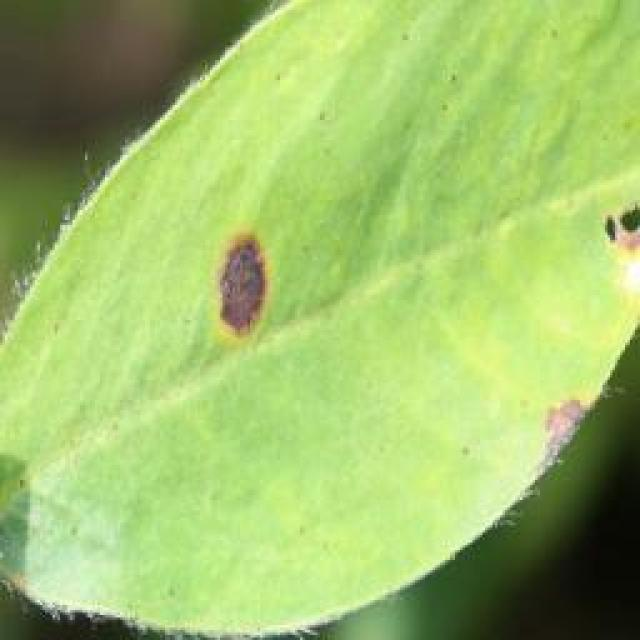Early_leaf_spot: (200, 204, 293, 352), (525, 375, 610, 453), (581, 186, 640, 276)
